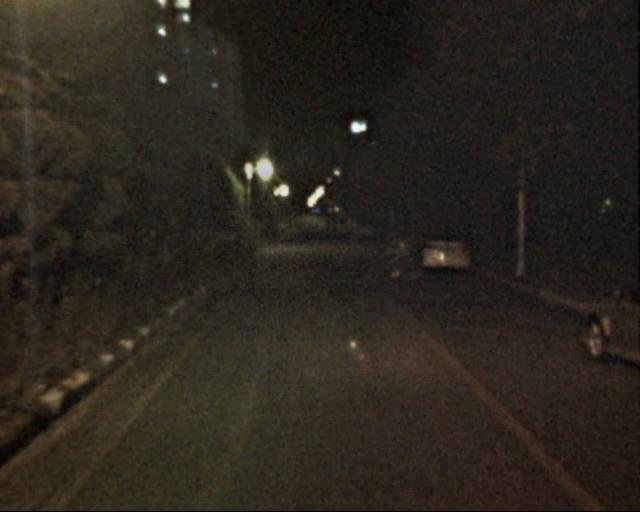person: (383, 223, 406, 279), (405, 222, 427, 275), (325, 214, 353, 236), (275, 210, 289, 244)
